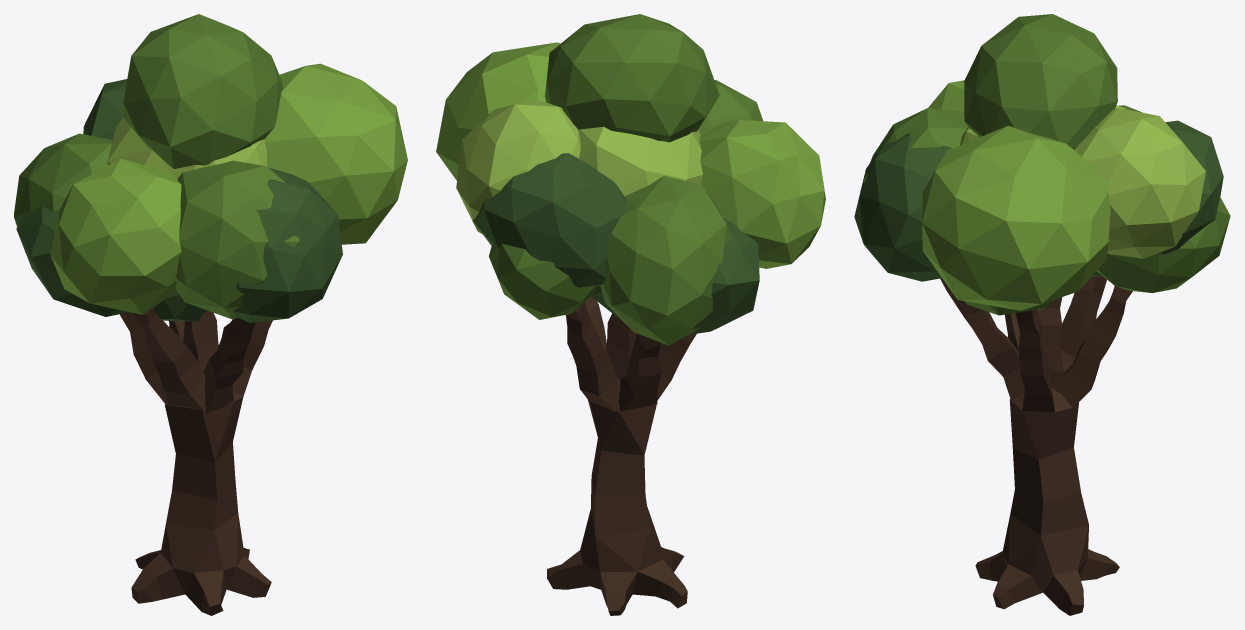
Rendered from SM_Tree_Oak_Green_03.glb.
3 views of the same model, side by side, from view 1: azimuth 30°, elevation 25°; view 2: azimuth 150°, elevation 25°; view 3: azimuth 270°, elevation 25° (orthographic).
Visible parts, largest first — view 1: SM_Tree_Oak_Green_03; view 2: SM_Tree_Oak_Green_03; view 3: SM_Tree_Oak_Green_03.
Boxes of the visible parts, <box> form: SM_Tree_Oak_Green_03: <box>14,14,407,615</box>; SM_Tree_Oak_Green_03: <box>436,14,825,615</box>; SM_Tree_Oak_Green_03: <box>854,14,1230,615</box>.
Size of the model in its own units: 3.29 by 5.04 by 3.07.
